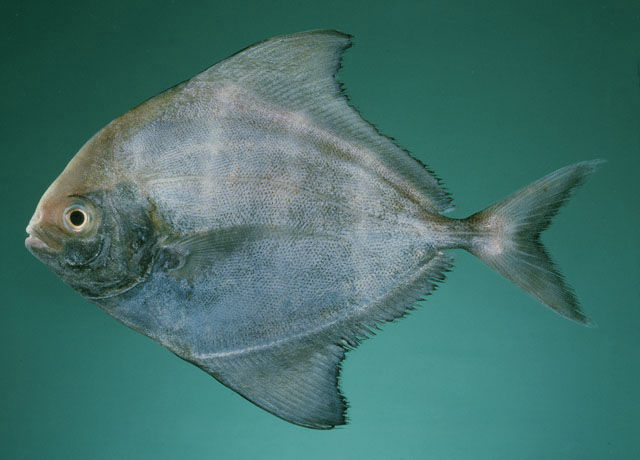fish: (24, 29, 607, 430)
